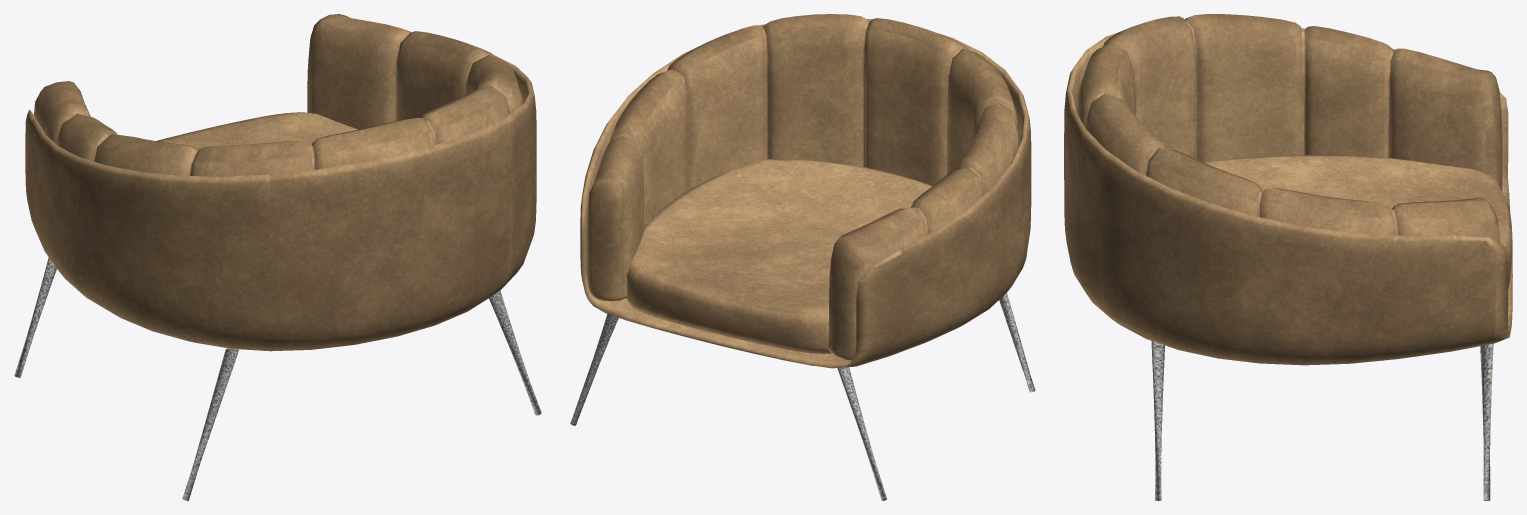
Rendered from 2_Light Brown Sofa.fbx.
3 views of the same model, side by side, from view 1: azimuth 30°, elevation 25°; view 2: azimuth 150°, elevation 25°; view 3: azimuth 270°, elevation 25° (orthographic). The views are drawn at different scales.
Visible parts, largest first — view 1: Cube, Cube_001, Cube_002, Cylinder; view 2: Cube_001, Cube_002, Cube, Cylinder; view 3: Cube, Cube_001, Cube_002, Cylinder.
Boxes of the visible parts, x1,y1,x2,y2 form: Cube: (25,55,536,351); Cube_001: (34,14,522,176); Cube_002: (156,112,357,149); Cylinder: (14,257,541,500); Cube_001: (587,14,1018,360); Cube_002: (626,159,932,353); Cube: (580,19,1031,368); Cylinder: (570,293,1035,500); Cube: (1064,28,1512,365); Cube_001: (1077,14,1502,243); Cube_002: (1204,155,1512,287); Cylinder: (1151,341,1493,500).
Bounding box in the file's own units: 89.59 × 71.56 × 83.83.
